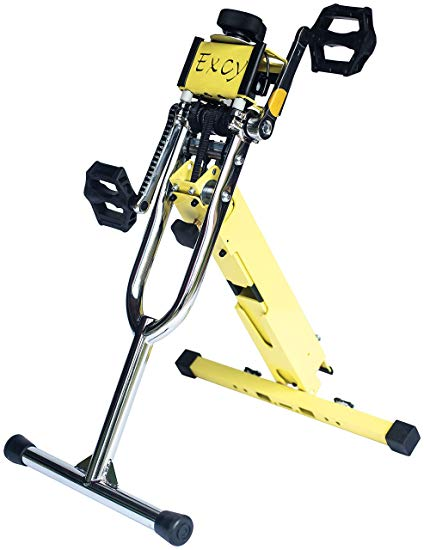gym_bike: (18, 8, 408, 537)
